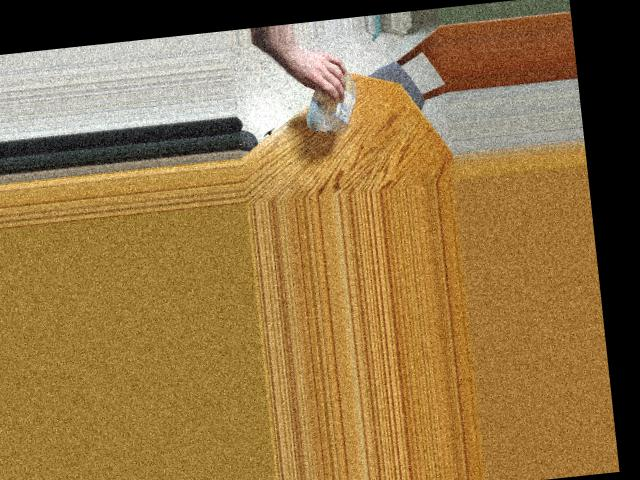cheese: (309, 72, 356, 128)
